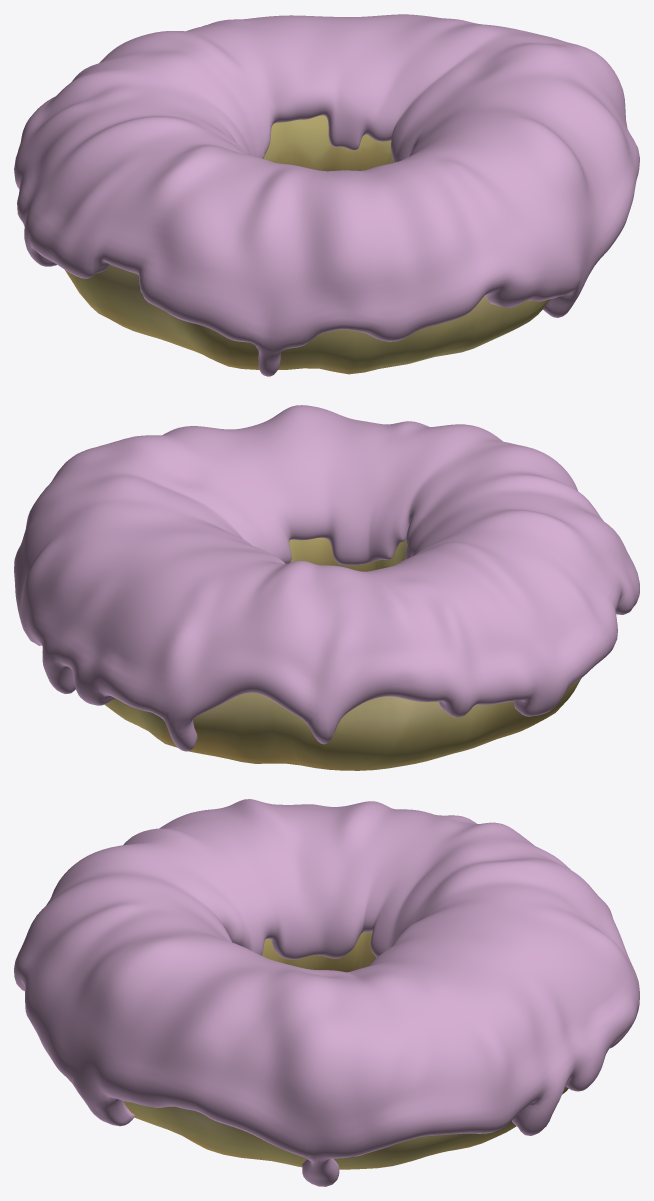
Rendered from donut.glb.
3 renders of one model, top to bottom at view 1: azimuth 30°, elevation 25°; view 2: azimuth 150°, elevation 25°; view 3: azimuth 270°, elevation 25°, orthographic. The views are drawn at different scales.
Parts seen in each view (by area): view 1: Icing.018, DonutBaked0; view 2: Icing.018, DonutBaked0; view 3: Icing.018, DonutBaked0.
Part boxes in pixels (x1,y1,x2,y2): Icing.018: (14, 14, 639, 376); DonutBaked0: (64, 115, 549, 374); Icing.018: (14, 405, 639, 751); DonutBaked0: (104, 538, 581, 770); Icing.018: (14, 799, 639, 1186); DonutBaked0: (123, 932, 568, 1169).
Bounding box in the file's own units: 0.3512 × 0.116 × 0.3374.
2 materials, 2 textured.
